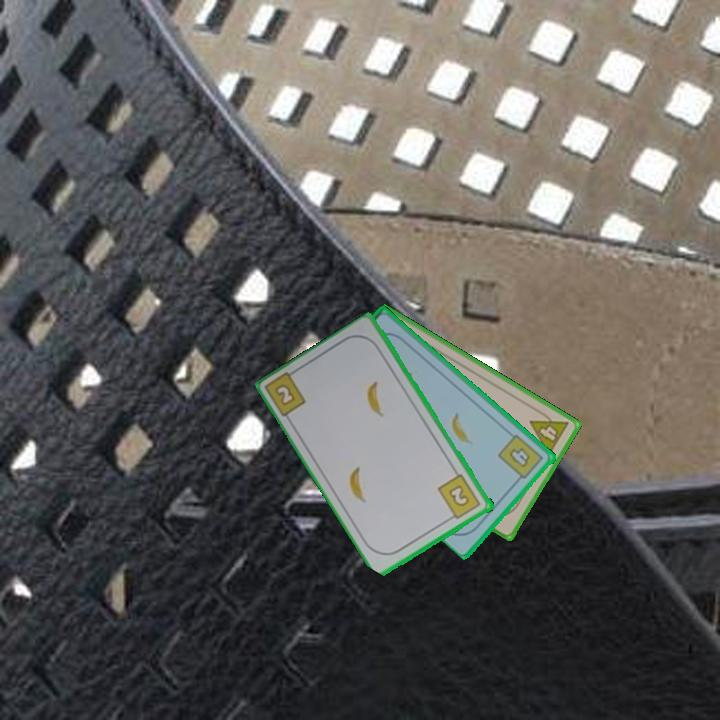2b: (435, 471, 484, 524), (274, 383, 299, 409)
4b: (495, 431, 547, 485)
4p: (526, 405, 572, 459)
